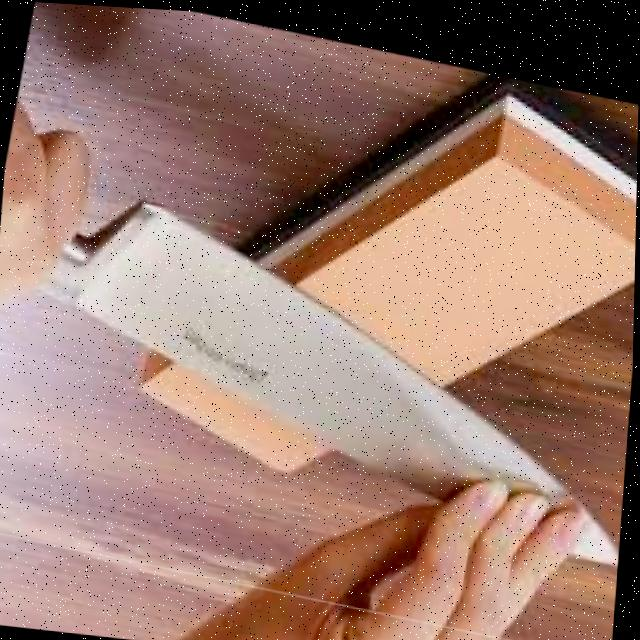knife: (16, 184, 637, 559)
